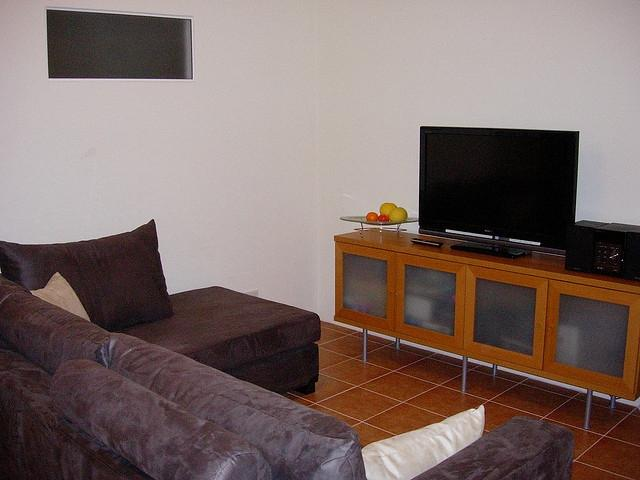orange: (388, 208, 408, 222), (379, 202, 396, 216), (366, 212, 378, 221), (378, 214, 388, 222)
